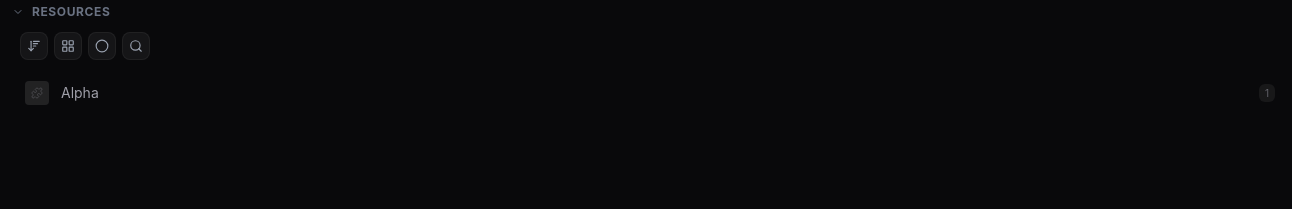
Test: ResourceSection interactions and remaining states › renders context action enabled and disabled states from thumbnail metadata
Right-click the text "Alpha".
right_click(80, 93)  # box [61, 83, 99, 103]
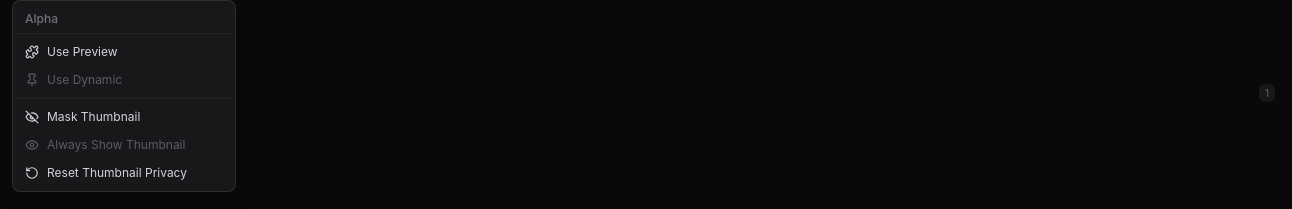
Now the button "Use Preview" is enabled, box [17, 38, 231, 66]
Now the button "Use Dynamic" is disabled, box [17, 66, 231, 94]
Now the button "Always Show Thumbnail" is disabled, box [17, 131, 231, 159]
